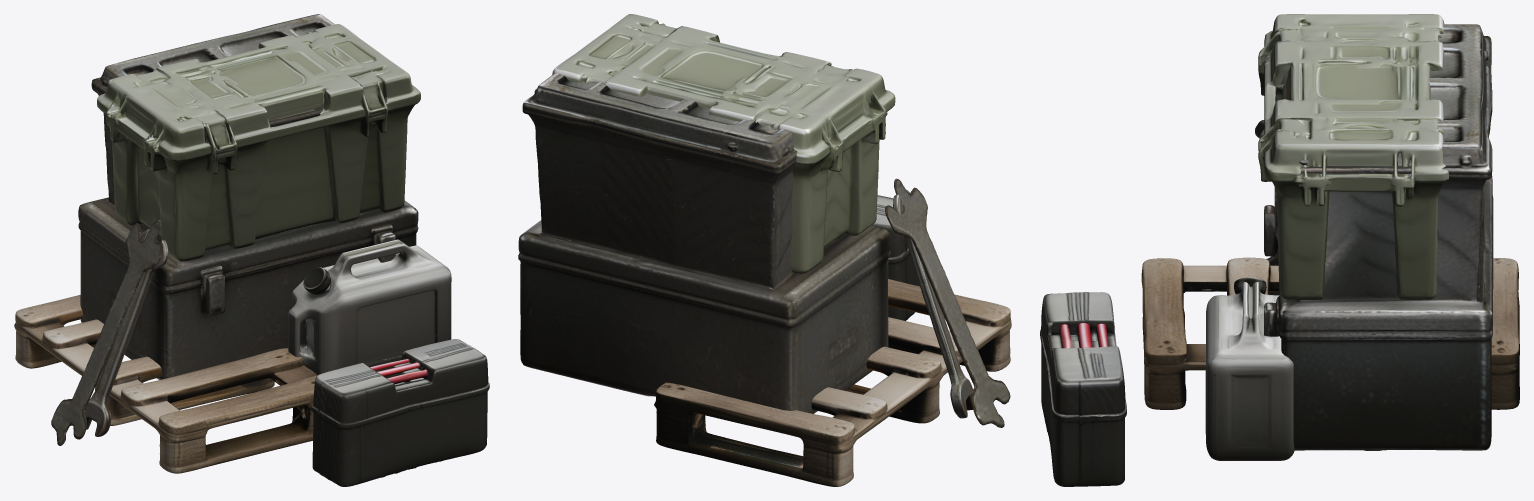
The model's file is midi_textured.glb.
3 views of the same model, side by side, from view 1: azimuth 30°, elevation 25°; view 2: azimuth 150°, elevation 25°; view 3: azimuth 270°, elevation 25° (orthographic). The views are drawn at different scales.
Parts seen in each view (by area): view 1: geometry_0, geometry_04c9ec9de355f, geometry_023d64391e514, geometry_0279a1eff6ff9, geometry_077d302dfcd12, geometry_0f6473a9445b0; view 2: geometry_04c9ec9de355f, geometry_0, geometry_023d64391e514, geometry_0f6473a9445b0, geometry_0279a1eff6ff9; view 3: geometry_04c9ec9de355f, geometry_0, geometry_0279a1eff6ff9, geometry_077d302dfcd12, geometry_023d64391e514.
Boxes of the visible parts, x1,y1,x2,y2 form: geometry_0: [97, 24, 420, 261]; geometry_04c9ec9de355f: [51, 14, 418, 445]; geometry_023d64391e514: [14, 295, 317, 473]; geometry_0279a1eff6ff9: [311, 339, 489, 486]; geometry_077d302dfcd12: [288, 239, 451, 375]; geometry_0f6473a9445b0: [85, 229, 168, 436]; geometry_04c9ec9de355f: [518, 73, 1010, 427]; geometry_0: [552, 14, 895, 273]; geometry_023d64391e514: [654, 279, 1011, 486]; geometry_0f6473a9445b0: [893, 189, 972, 418]; geometry_0279a1eff6ff9: [871, 195, 919, 320]; geometry_04c9ec9de355f: [1255, 24, 1493, 450]; geometry_0: [1258, 14, 1449, 299]; geometry_0279a1eff6ff9: [1040, 292, 1126, 486]; geometry_077d302dfcd12: [1205, 277, 1294, 460]; geometry_023d64391e514: [1141, 257, 1519, 409].
Bounding box in the file's own units: 1.92 × 1.54 × 1.89.
7 materials, 7 textured.
